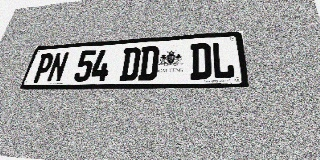4: (89, 49, 113, 82)
5: (73, 50, 96, 82)
D: (190, 43, 212, 80), (137, 46, 160, 81), (119, 47, 141, 81)
L: (211, 41, 235, 79)
N: (46, 52, 70, 83)
P: (31, 53, 55, 83)
